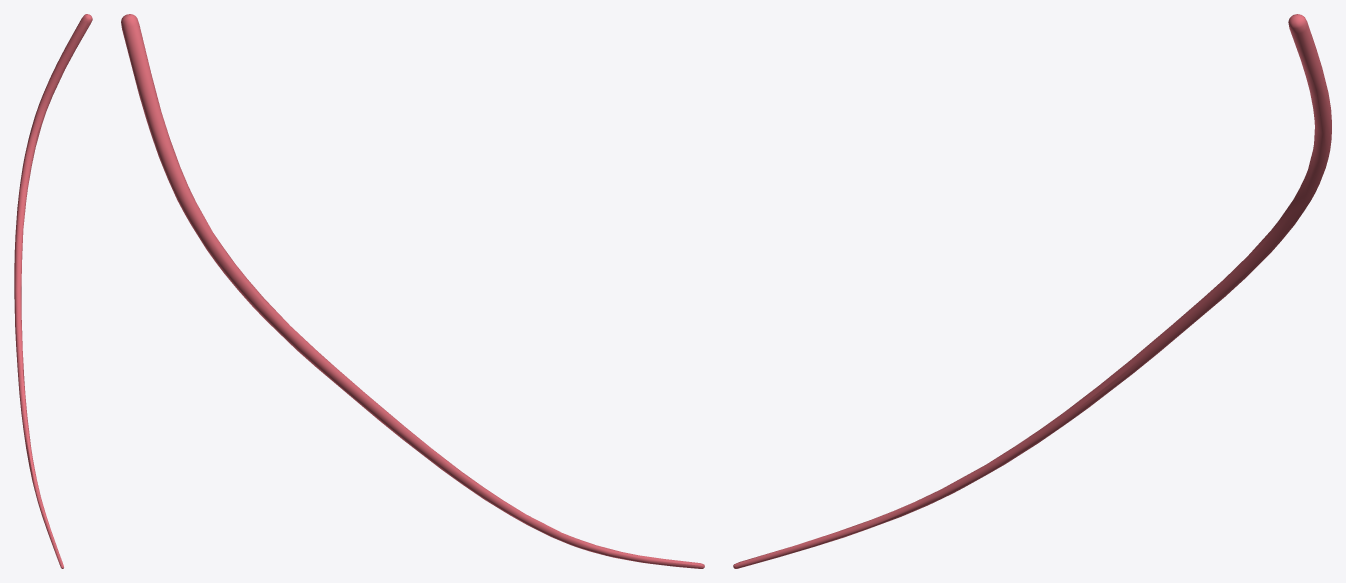
File: fma85096_fj2355.glb
The picture shows the model from 3 angles, left to right: view 1: azimuth 30°, elevation 25°; view 2: azimuth 150°, elevation 25°; view 3: azimuth 270°, elevation 25°; orthographic projection. The views are drawn at different scales.
Visible parts, largest first — view 1: FMA85096_FJ2355; view 2: FMA85096_FJ2355; view 3: FMA85096_FJ2355.
Part boxes in pixels (x1,y1,x2,y2): FMA85096_FJ2355: (14,14,92,568); FMA85096_FJ2355: (121,14,704,568); FMA85096_FJ2355: (733,14,1331,568).
Bounding box in the file's own units: 0.0299 × 0.0606 × 0.0461.
